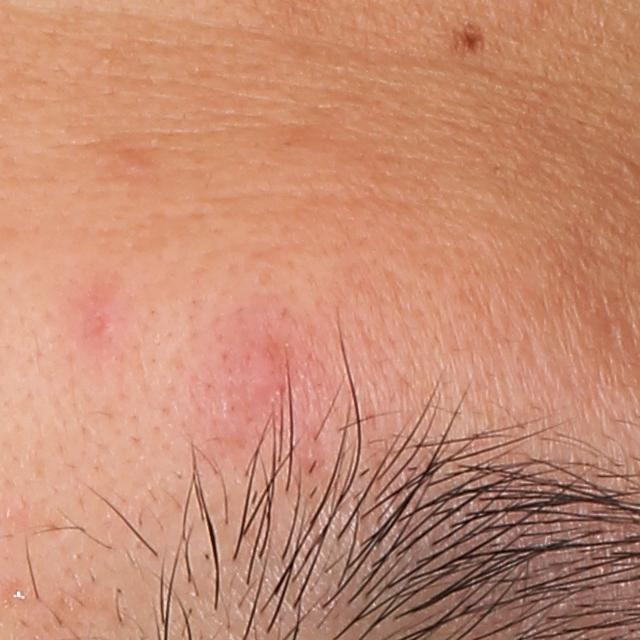nevus: (447, 18, 492, 57)
